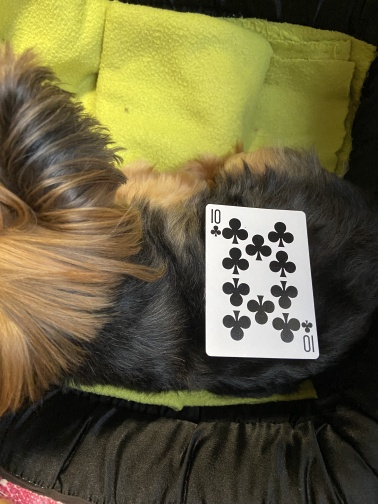ten: (202, 203, 321, 360)
